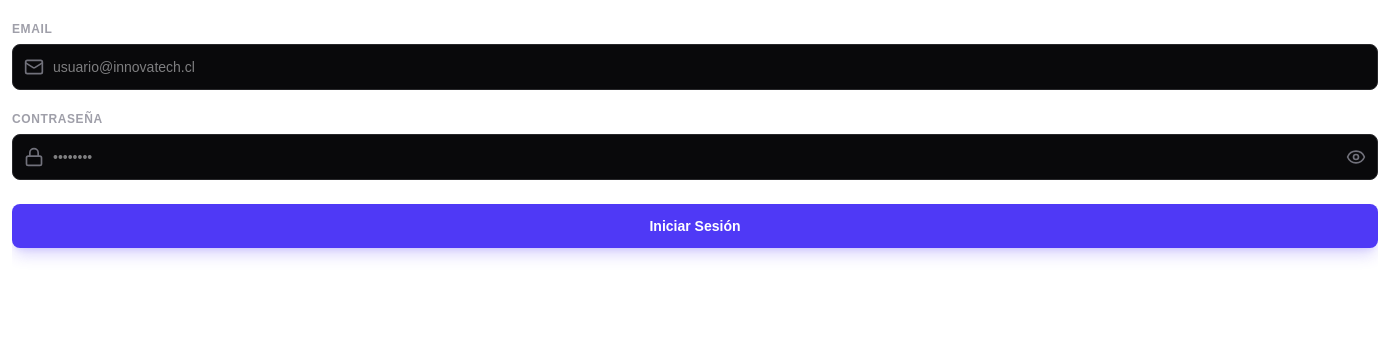
Test: LoginForm - Pruebas de Componente › Debería mostrar un mensaje de error si las credenciales fallan
The image size is (1390, 347).
Type "error@innovatech.cl" into the field with placeholder "usuario@innovatech.cl" at (695, 67), box [12,44,1378,90]
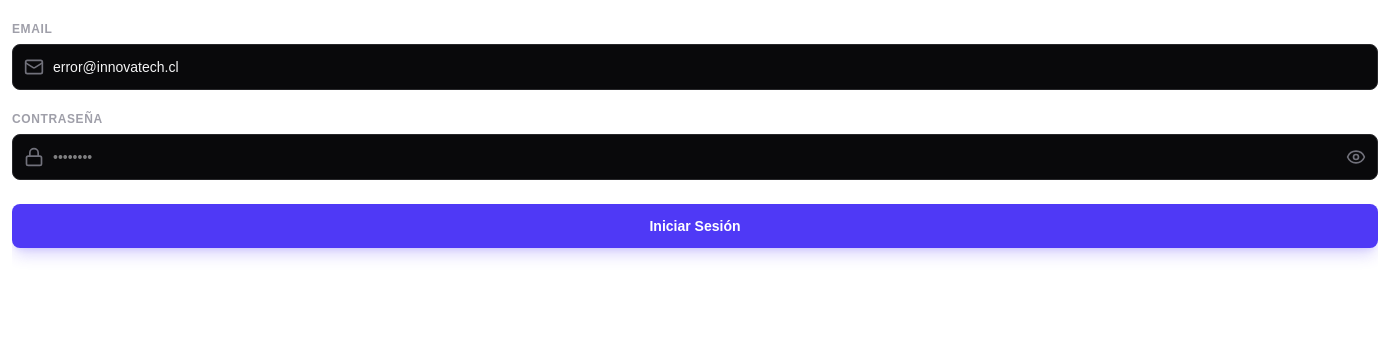
Type "wrong-pass" into the password field with placeholder "••••••••" at (695, 157), box [12,134,1378,180]
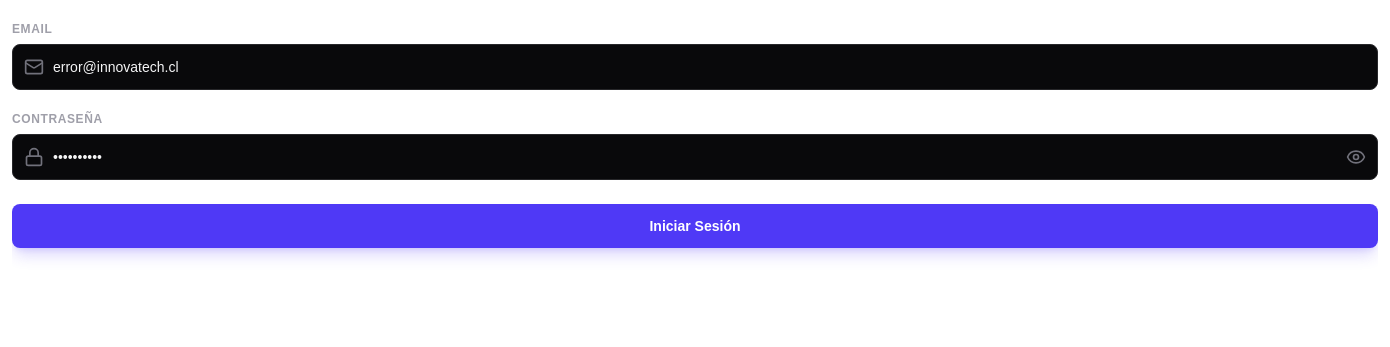
Click the button "Iniciar Sesión" at (695, 226), box [12,204,1378,248]
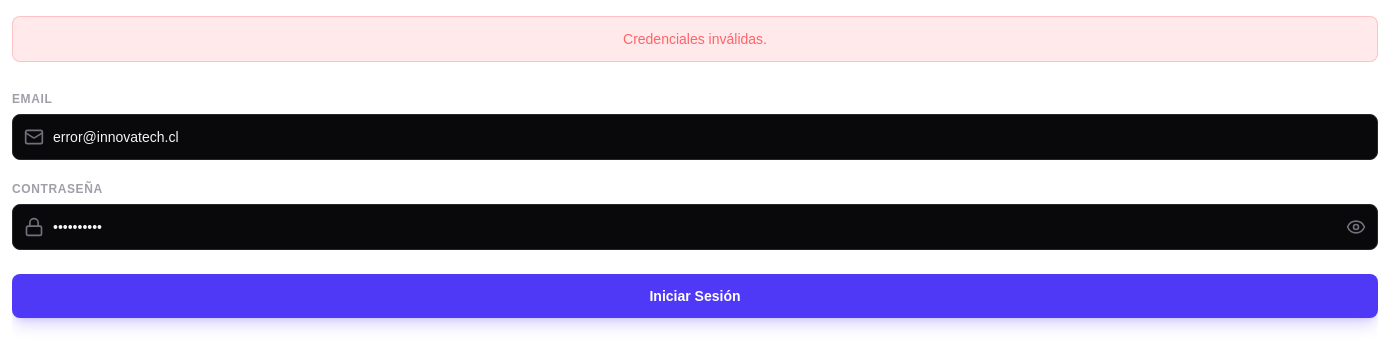
Expected: the text "Credenciales inválidas." is shown, [12,16,1378,62]
